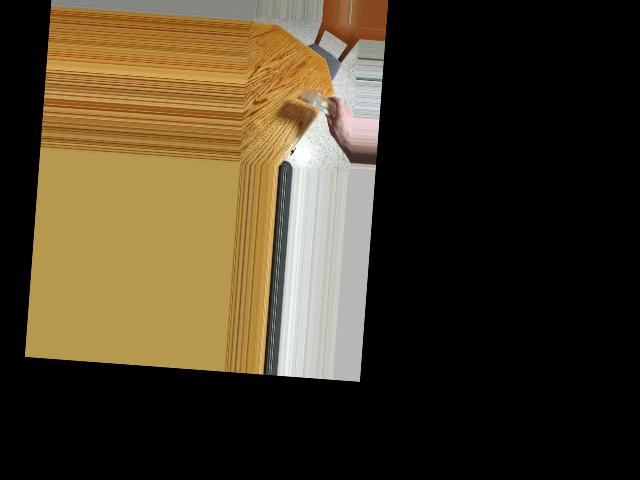cheese: (295, 88, 343, 116)
